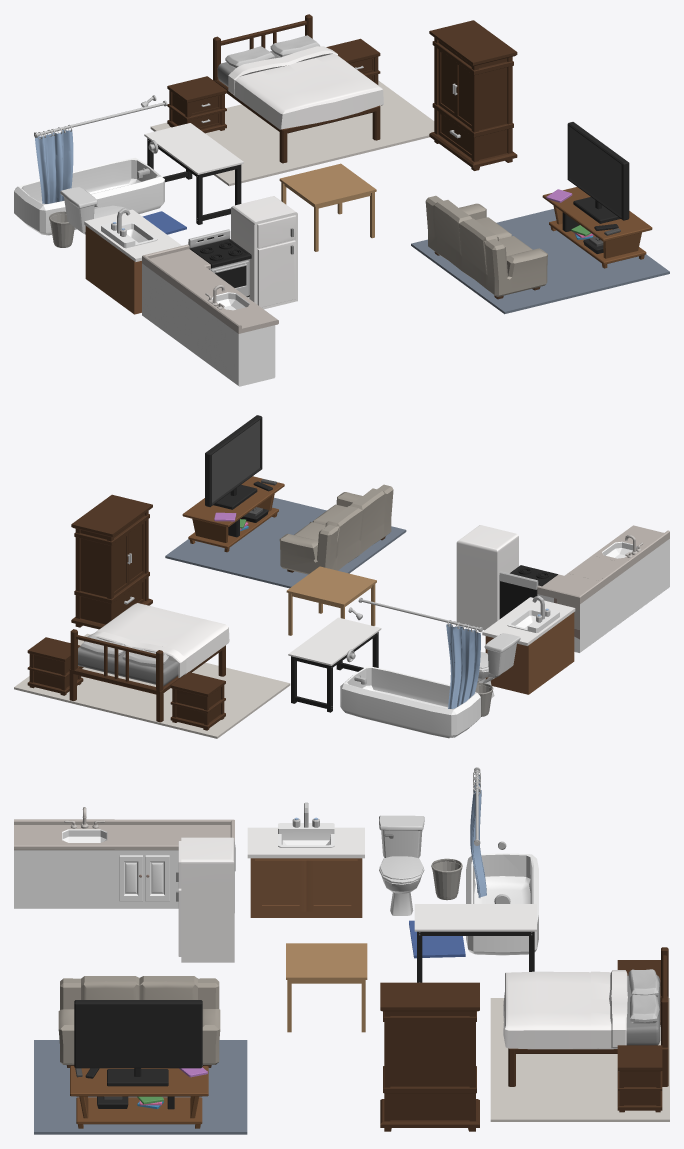
File: NonInteractables.fbx
3 renders of one model, top to bottom at view 1: azimuth 30°, elevation 25°; view 2: azimuth 150°, elevation 25°; view 3: azimuth 270°, elevation 25°, orthographic. The views are drawn at different scales.
Visible parts, largest first — view 1: pasted__pCube4, pasted__pCube6, pasted__pCube1 (×3), rug_bedroom, pasted__pasted__polySurface4, shower, rug_bedroom1, pasted__pasted__pCube3, pasted__polySurface5, pasted__pCube3 (×2), desk, pasted__group3_pasted__pCube1 (+6 smaller); view 2: pasted__pCube4, shower, pasted__pCube6, pasted__pCube1 (×3), pasted__pasted__polySurface4, rug_bedroom, pasted__pCube3 (×2), rug_bedroom1, pasted__pasted__pCube3, pasted__polySurface5, desk, pasted__group3_pasted__pCube1 (+4 smaller); view 3: pasted__pasted__polySurface4, pasted__pCube6, pasted__pCube4, pasted__pCube3 (×2), pasted__pCube1 (×3), rug_bedroom, pasted__polySurface5, rug_bedroom1, pasted__pasted__pCube3, shower, pasted__polySurface33, desk (+4 smaller).
Boxes of the visible parts, left/top/right/bottom form: pasted__pCube4: left=213, top=14, right=383, bottom=163; pasted__pCube6: left=429, top=20, right=517, bottom=170; pasted__pCube1 (×3): left=101, top=163, right=376, bottom=309; rug_bedroom: left=150, top=80, right=434, bottom=186; pasted__pasted__polySurface4: left=542, top=122, right=652, bottom=268; shower: left=14, top=95, right=167, bottom=235; rug_bedroom1: left=411, top=209, right=669, bottom=314; pasted__pasted__pCube3: left=425, top=195, right=547, bottom=299; pasted__polySurface5: left=194, top=284, right=278, bottom=386; pasted__pCube3 (×2): left=60, top=187, right=181, bottom=314; desk: left=144, top=123, right=243, bottom=224; pasted__group3_pasted__pCube1: left=142, top=244, right=210, bottom=334; pasted__pCube4: left=69, top=603, right=229, bottom=722; shower: left=340, top=597, right=482, bottom=738; pasted__pCube6: left=71, top=494, right=152, bottom=629; pasted__pCube1 (×3): left=286, top=525, right=559, bottom=635; pasted__pasted__polySurface4: left=182, top=415, right=284, bottom=552; rug_bedroom: left=14, top=633, right=290, bottom=738; pasted__pCube3 (×2): left=477, top=597, right=575, bottom=698; rug_bedroom1: left=165, top=497, right=406, bottom=588; pasted__pasted__pCube3: left=279, top=484, right=393, bottom=574; pasted__polySurface5: left=592, top=525, right=669, bottom=616; desk: left=288, top=617, right=381, bottom=712; pasted__group3_pasted__pCube1: left=537, top=573, right=604, bottom=652; pasted__pasted__polySurface4: left=70, top=1000, right=208, bottom=1128; pasted__pCube6: left=380, top=982, right=479, bottom=1131; pasted__pCube4: left=503, top=947, right=668, bottom=1086; pasted__pCube3 (×2): left=247, top=815, right=424, bottom=917; pasted__pCube1 (×3): left=176, top=823, right=367, bottom=1032; rug_bedroom: left=490, top=998, right=669, bottom=1121; pasted__polySurface5: left=14, top=807, right=114, bottom=908; rug_bedroom1: left=34, top=1040, right=247, bottom=1134; pasted__pasted__pCube3: left=58, top=976, right=220, bottom=1067; shower: left=466, top=767, right=538, bottom=955; pasted__polySurface33: left=114, top=819, right=174, bottom=908; desk: left=414, top=904, right=536, bottom=982.
Bounding box in the file's own units: 13.02 × 3.21 × 14.69.
